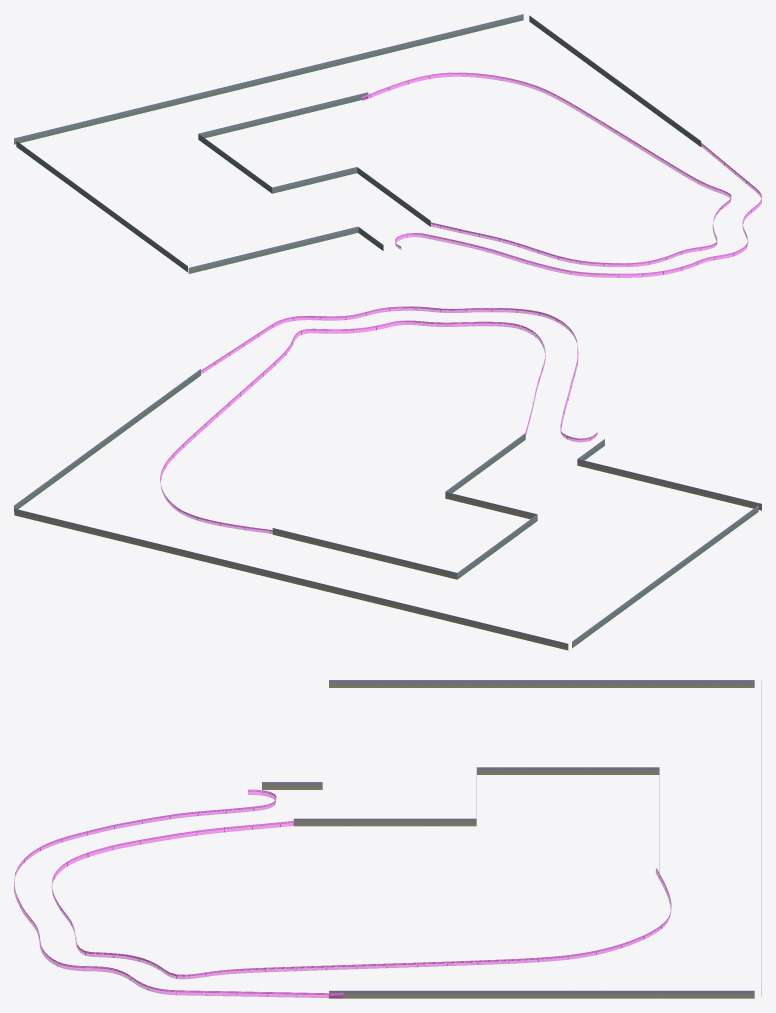
The model's file is Barrier.glb.
3 views of the same model, one above another, from view 1: azimuth 30°, elevation 25°; view 2: azimuth 150°, elevation 25°; view 3: azimuth 270°, elevation 25° (orthographic). The views are drawn at different scales.
Parts seen in each view (by area): view 1: Wall-col, Bumper-col, BumperOut-col, GuardRail, Wall.004-col, Wall.001-col, Wall.002-col, Wall.007-col, GuardRailOut, Wall.006-col, Wall.005-col, Wall.008-col; view 2: Wall-col, Bumper-col, BumperOut-col, GuardRail, Wall.001-col, Wall.004-col, Wall.007-col, Wall.002-col, GuardRailOut, Wall.006-col, Wall.008-col, Wall.005-col; view 3: Bumper-col, Wall.004-col, Wall.001-col, BumperOut-col, GuardRail, GuardRailOut, Wall.005-col, Wall.008-col.
Boxes of the visible parts, x1,y1,x2,y2 form: Wall-col: (14, 14, 523, 144); Bumper-col: (362, 73, 731, 266); BumperOut-col: (395, 143, 761, 277); GuardRail: (361, 72, 731, 266); Wall.004-col: (529, 15, 701, 146); Wall.001-col: (16, 141, 187, 272); Wall.002-col: (188, 226, 358, 273); Wall.007-col: (198, 92, 368, 139); GuardRailOut: (395, 143, 761, 277); Wall.006-col: (272, 167, 357, 193); Wall.005-col: (357, 167, 430, 226); Wall.008-col: (198, 134, 271, 193); Wall-col: (14, 508, 568, 650); Bumper-col: (160, 321, 545, 533); BumperOut-col: (201, 307, 597, 441); GuardRail: (160, 320, 545, 533); Wall.001-col: (572, 505, 758, 648); Wall.004-col: (14, 369, 200, 511); Wall.007-col: (272, 528, 457, 579); Wall.002-col: (577, 459, 761, 510); GuardRailOut: (201, 306, 597, 440); Wall.006-col: (445, 492, 536, 519); Wall.008-col: (457, 514, 537, 578); Wall.005-col: (445, 433, 525, 493); Bumper-col: (52, 821, 671, 978); Wall.004-col: (329, 990, 754, 998); Wall.001-col: (329, 680, 754, 687); BumperOut-col: (14, 790, 342, 997); GuardRail: (51, 820, 671, 978); GuardRailOut: (14, 789, 343, 997); Wall.005-col: (293, 818, 476, 826); Wall.008-col: (477, 767, 659, 774).
Size of the model in its own units: 243 by 8.7 by 246.
Materials: 5 (3 with a texture image).
